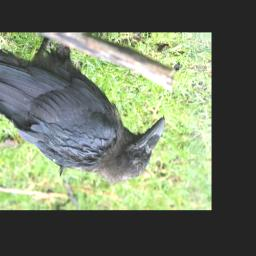Crow: (0, 34, 168, 184)
